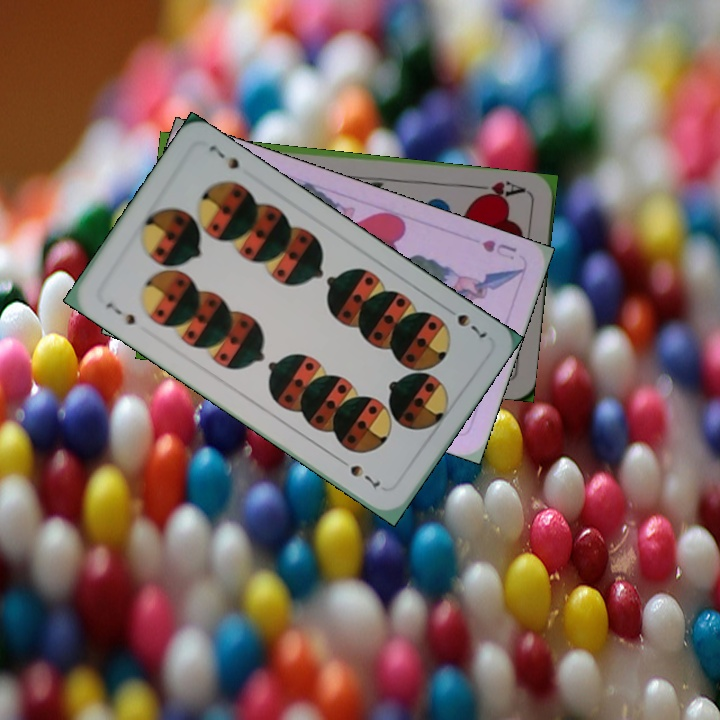HA: (471, 177, 530, 204)
HU: (478, 235, 520, 262)
S7: (440, 301, 490, 341), (101, 298, 139, 328)
